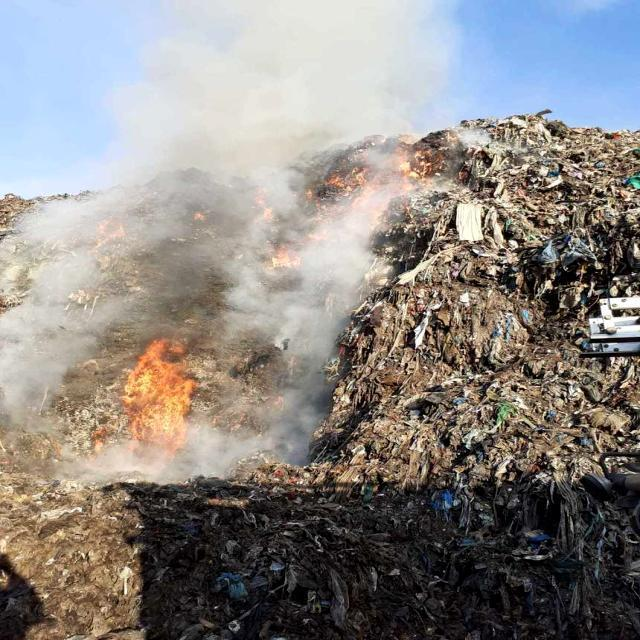Fire: (102, 328, 226, 452)
Smoke: (1, 2, 442, 462)
